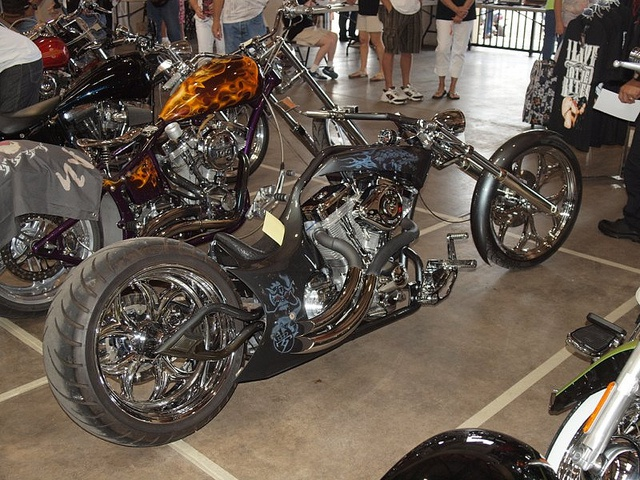non-vehicle: (56, 112, 587, 444), (0, 3, 364, 319), (373, 316, 639, 474), (0, 27, 192, 148), (22, 0, 118, 102)
